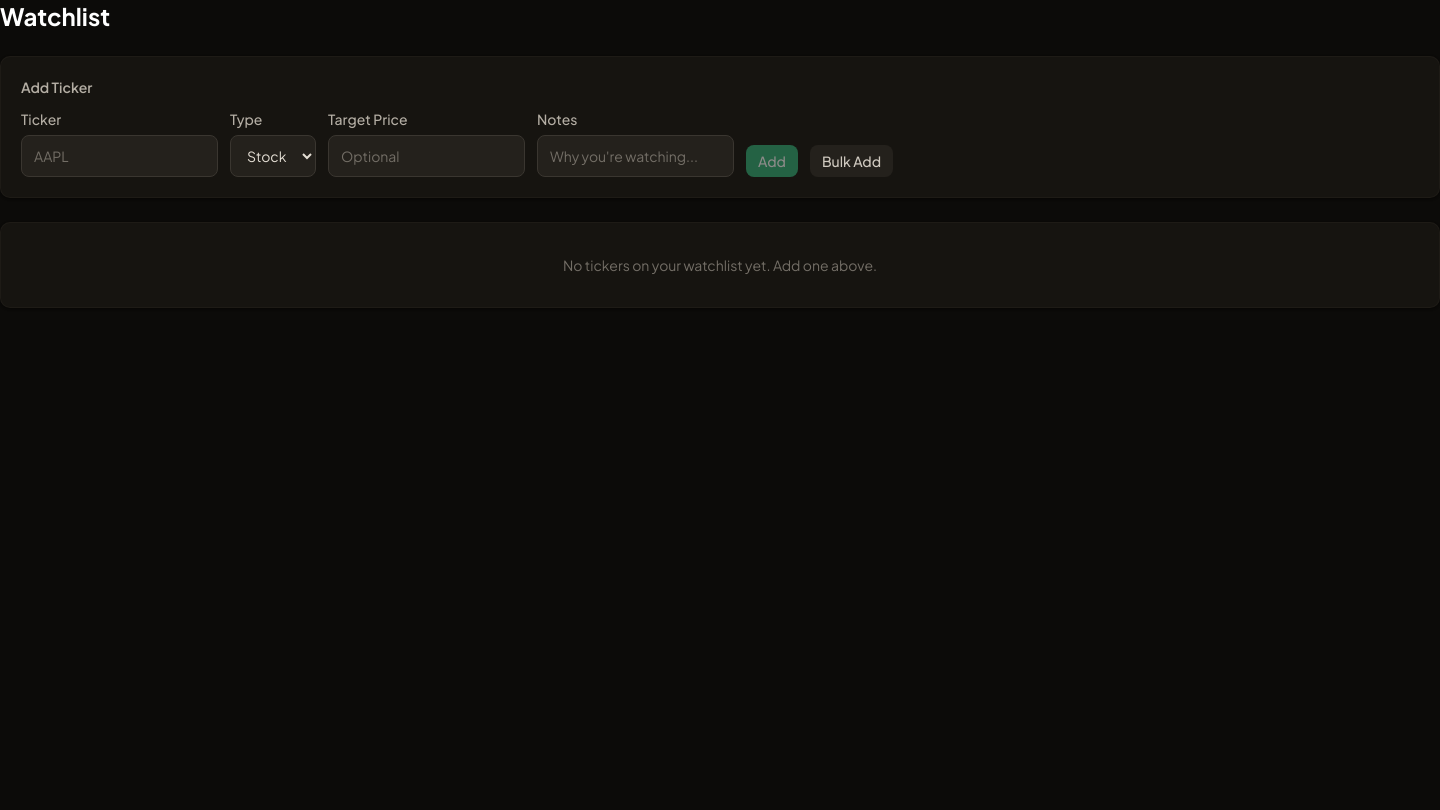
Test case: WatchlistPage › opens BulkAddModal when 'Bulk Add' is clicked
Click the button "Bulk Add".
click(852, 161)  # box [810,145,893,177]
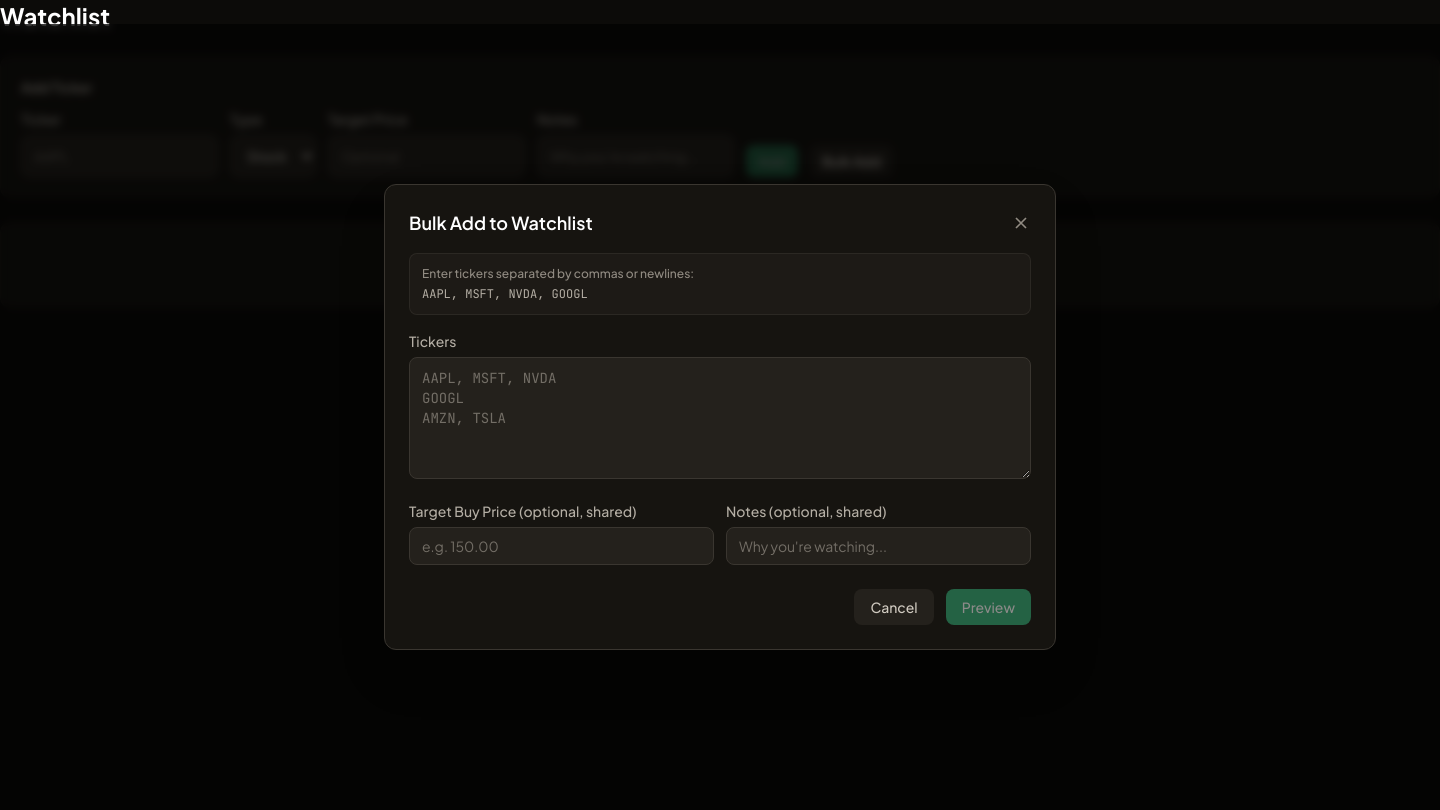
Now the heading "Bulk Add to Watchlist" is shown, box [409,209,593,237]
